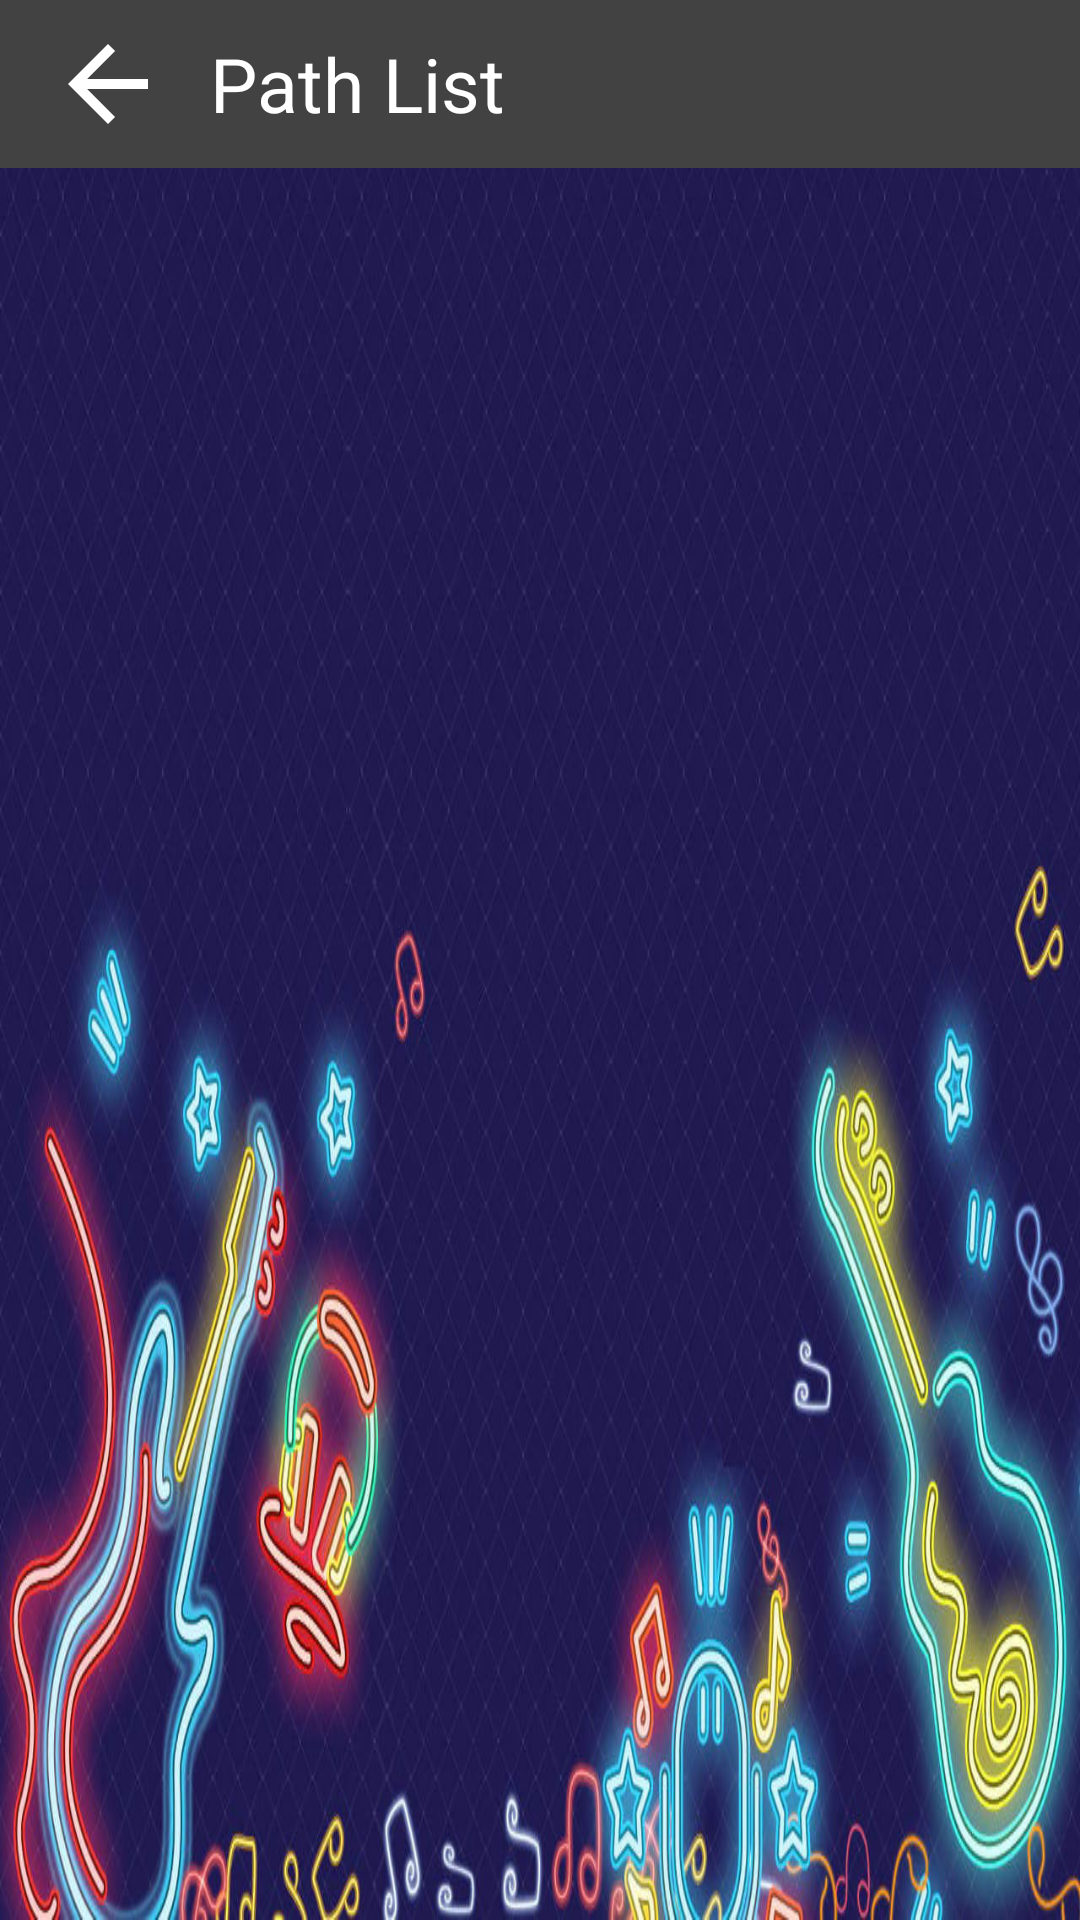

Where icons sit on this 1080×1920 app screen, as (x1, y1, x2, y2):
arrow: (68, 44, 148, 124)
